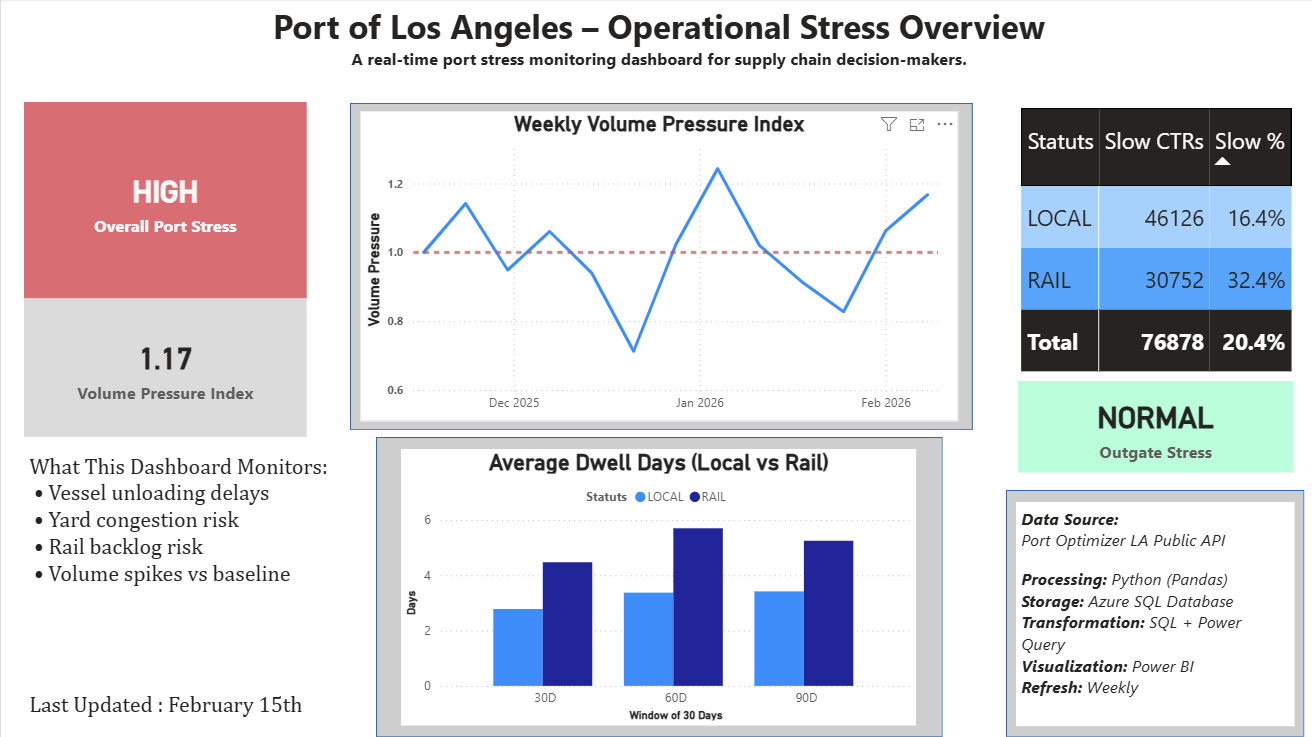

This screenshot's page, from the dashboard's own definition file:
{"tool":"powerbi","page":{"name":"Los Angeles Port Stress","canvas":[1280,720],"ordinal":0},"visuals":[{"type":"shape","box":[364.3,427.1,551.4,293.1],"z":0},{"type":"shape","box":[977.1,478.8,290.3,241.5],"z":500},{"type":"shape","box":[339.2,101.9,605.8,318.3],"z":1000},{"type":"card","fields":{"Values":["kpi_volume_pressure_weekly.Latest Volume Pressure"]},"box":[22.1,292.6,275.1,134.1],"z":2000},{"type":"lineChart","title":"Weekly Volume Pressure Index","fields":{"Y":["Avg(kpi_volume_pressure_weekly.volume_pressure_index)"],"Category":["kpi_volume_pressure_weekly.week_start_date"]},"box":[349,110.3,582.1,301.5],"z":3000},{"type":"pivotTable","fields":{"Rows":["kpi_slow_containers_stress.status_label"],"Values":["Sum(kpi_slow_containers_stress.slow_containers)","kpi_slow_containers_stress.Slow %"]},"box":[986.9,101.9,280.6,270.8],"z":4000},{"type":"textbox","box":[0,0,1280,85.1],"z":5000},{"type":"card","fields":{"Values":["Min(kpi_terminal_status_latest.terminal_overall_status)"]},"box":[22.1,101.4,275.1,191.2],"z":6000},{"type":"clusteredColumnChart","title":"Average Dwell Days (Local vs Rail)","fields":{"Category":["kpi_dwell_trend_windows.window"],"Series":["kpi_dwell_trend_windows.status_label"],"Y":["Avg(kpi_dwell_trend_windows.avg_dwell_days)"]},"box":[389.4,438.3,501.1,269.4],"z":7000},{"type":"textbox","box":[22.3,438.3,326.6,269.4],"z":8000},{"type":"textbox","box":[986.9,489.9,270.8,217.8],"z":9000},{"type":"card","fields":{"Values":["Min(kpi_terminal_status_latest.outgate_stress_flag_worst)"]},"box":[989.7,372.7,268,89.3],"z":10000}]}

Visuals, with their boxes in screenshot pixels (x1, y1, x2, y2), scaled from the page's 1280x720 canvas onto the 1312x737 screenshot:
shape: select_region(373, 437, 939, 736)
shape: select_region(1002, 490, 1299, 736)
shape: select_region(348, 104, 969, 430)
card - kpi_volume_pressure_weekly.Latest Volume Pressure: select_region(23, 300, 305, 437)
"Weekly Volume Pressure Index" lineChart: select_region(358, 113, 954, 422)
pivotTable - kpi_slow_containers_stress.status_label x Sum(kpi_slow_containers_stress.slow_containers): select_region(1012, 104, 1299, 381)
textbox: select_region(0, 0, 1311, 87)
card - Min(kpi_terminal_status_latest.terminal_overall_status): select_region(23, 104, 305, 300)
"Average Dwell Days (Local vs Rail)" clusteredColumnChart: select_region(399, 449, 913, 724)
textbox: select_region(23, 449, 358, 724)
textbox: select_region(1012, 501, 1289, 724)
card - Min(kpi_terminal_status_latest.outgate_stress_flag_worst): select_region(1014, 381, 1289, 473)
